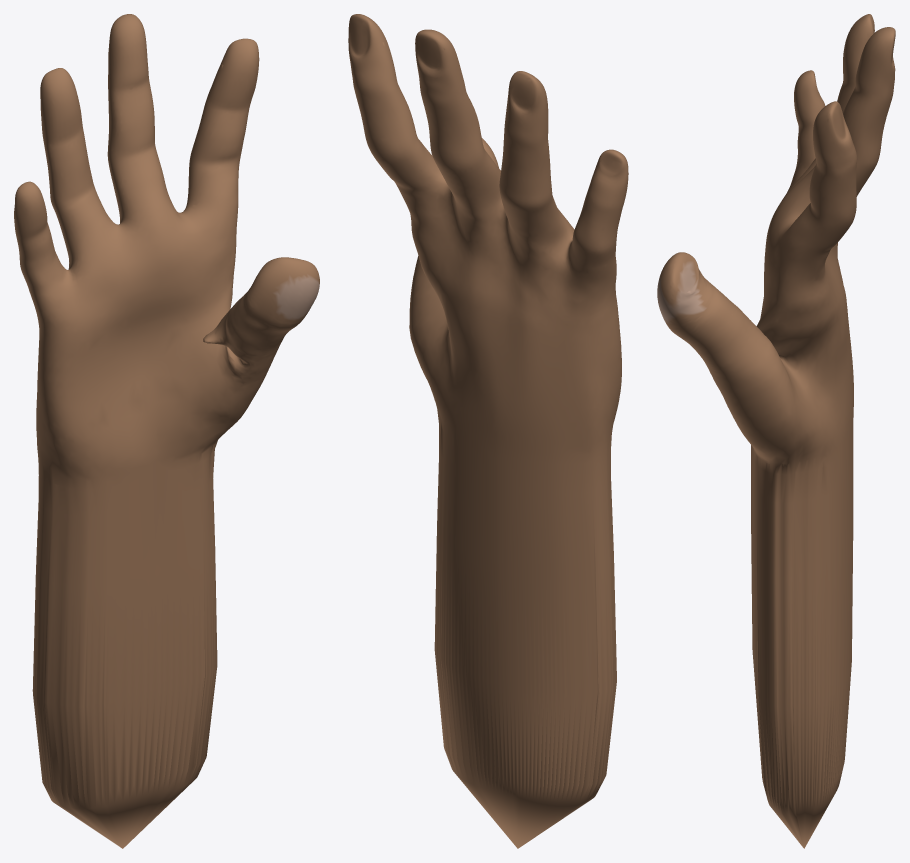
File: left-hand.glb
3 views of the same model, side by side, from view 1: azimuth 30°, elevation 25°; view 2: azimuth 150°, elevation 25°; view 3: azimuth 270°, elevation 25° (orthographic). The views are drawn at different scales.
Parts seen in each view (by area): view 1: left hand; view 2: left hand; view 3: left hand.
Boxes of the visible parts, x1,y1,x2,y2 form: left hand: (14, 14, 319, 848); left hand: (348, 14, 628, 848); left hand: (657, 14, 895, 848).
Size of the model in its own units: 0.1155 by 0.3464 by 0.0889.
